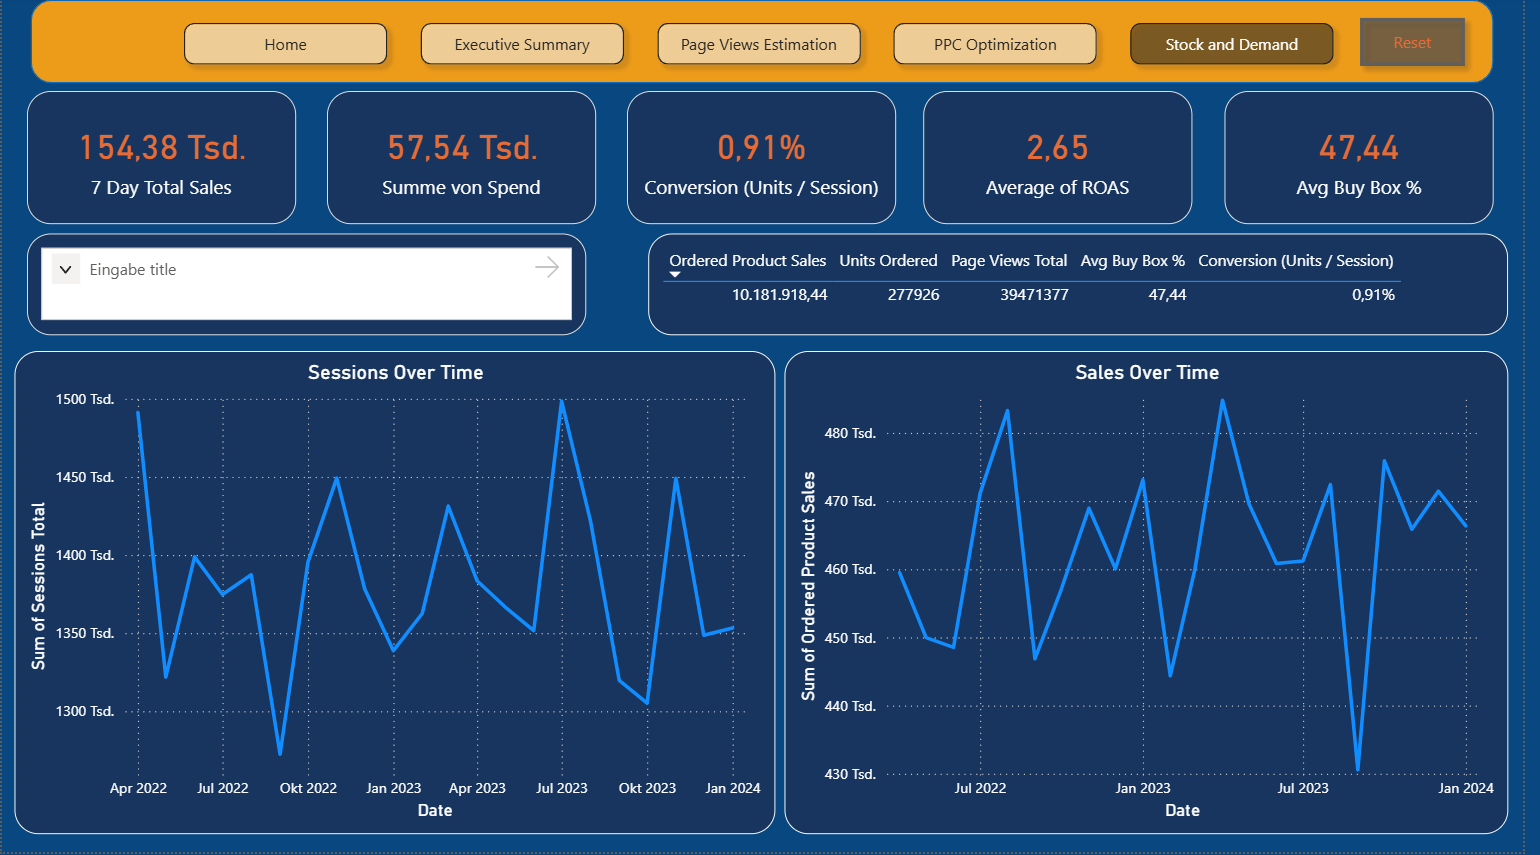

Layout of this report page (visuals, bound fields, positions):
{"tool":"powerbi","page":{"name":"Stock and Demand","canvas":[1280,720],"ordinal":7},"visuals":[{"type":"textSlicer","fields":{"Values":["dim_product.title"]},"box":[21.5,200.2,470.4,85.3],"z":0},{"type":"lineChart","title":"Sales Over Time","fields":{"Y":["Sum(final_fact.ordered_product_sales)"],"Category":["DimDate.Date"]},"box":[658,298.5,609,406.4],"z":1000},{"type":"lineChart","title":"Sessions Over Time","fields":{"Y":["Sum(final_fact.sessions_total)"],"Category":["DimDate.Date"]},"box":[11,298.5,640,406.4],"z":2000},{"type":"card","fields":{"Values":["Core KPI’lar.Conversion (Units / Session)"]},"box":[526.1,79.9,226.2,112.2],"z":3000},{"type":"card","fields":{"Values":["Core KPI’lar.Avg Buy Box %"]},"box":[1027.9,79.9,226.2,112.2],"z":4000},{"type":"tableEx","fields":{"Values":["Sum(final_fact.ordered_product_sales)","Sum(final_fact.units_ordered)","Sum(final_fact.page_views_total)","Core KPI’lar.Avg Buy Box %","Core KPI’lar.Conversion (Units / Session)"]},"box":[543.1,200.2,723.6,85.3],"z":5000},{"type":"card","fields":{"Values":["Sum(Sponsored_Advertised_Product_Report.Spend)"]},"box":[273.8,79.9,226.2,112.2],"z":6000},{"type":"card","fields":{"Values":["Sum(Sponsored_Advertised_Product_Report.7_Day_Total_Sales)"]},"box":[21.5,79.9,226,112],"z":7000},{"type":"card","fields":{"Values":["Avg(Sponsored_Advertised_Product_Report.Total_Return_on_Advertising_Spend_ROAS)"]},"box":[774.8,79.9,226.2,112.2],"z":8000},{"type":"shape","box":[24,3.6,1230.2,70.2],"z":9000},{"type":"pageNavigator","box":[144.5,13.5,989.3,53.9],"z":10000},{"type":"actionButton","box":[1133.9,9,105.9,58.4],"z":12000}]}

Visuals, with their boxes in screenshot pixels (x1, y1, x2, y2), scaled from the page's 1280x720 canvas onto the 1540x855 screenshot:
textSlicer - dim_product.title: bbox(26, 238, 592, 339)
"Sales Over Time" lineChart: bbox(792, 354, 1524, 837)
"Sessions Over Time" lineChart: bbox(13, 354, 783, 837)
card - Core KPI’lar.Conversion (Units / Session): bbox(633, 95, 905, 228)
card - Core KPI’lar.Avg Buy Box %: bbox(1237, 95, 1509, 228)
tableEx - Sum(final_fact.ordered_product_sales) x Sum(final_fact.units_ordered): bbox(653, 238, 1524, 339)
card - Sum(Sponsored_Advertised_Product_Report.Spend): bbox(329, 95, 602, 228)
card - Sum(Sponsored_Advertised_Product_Report.7_Day_Total_Sales): bbox(26, 95, 298, 228)
card - Avg(Sponsored_Advertised_Product_Report.Total_Return_on_Advertising_Spend_ROAS): bbox(932, 95, 1204, 228)
shape: bbox(29, 4, 1509, 88)
pageNavigator: bbox(174, 16, 1364, 80)
actionButton: bbox(1364, 11, 1492, 80)
